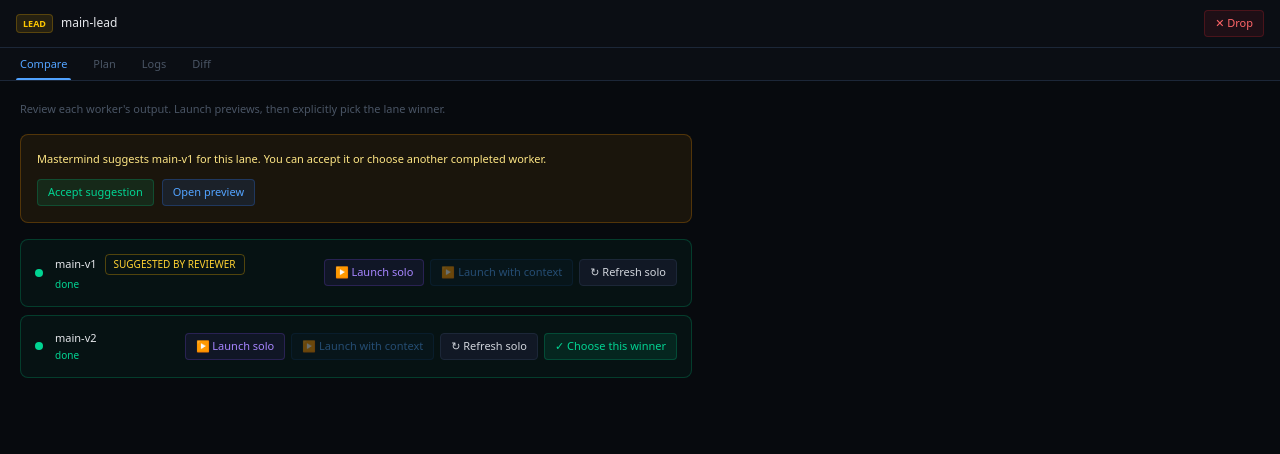
Test: DetailPanel › shows a recoverable API error when winner selection cannot reach the backend
The width and height of the screenshot is (1280, 454).
Click the button "✓ Choose this winner".
click(610, 346)  # box [544,333,677,360]
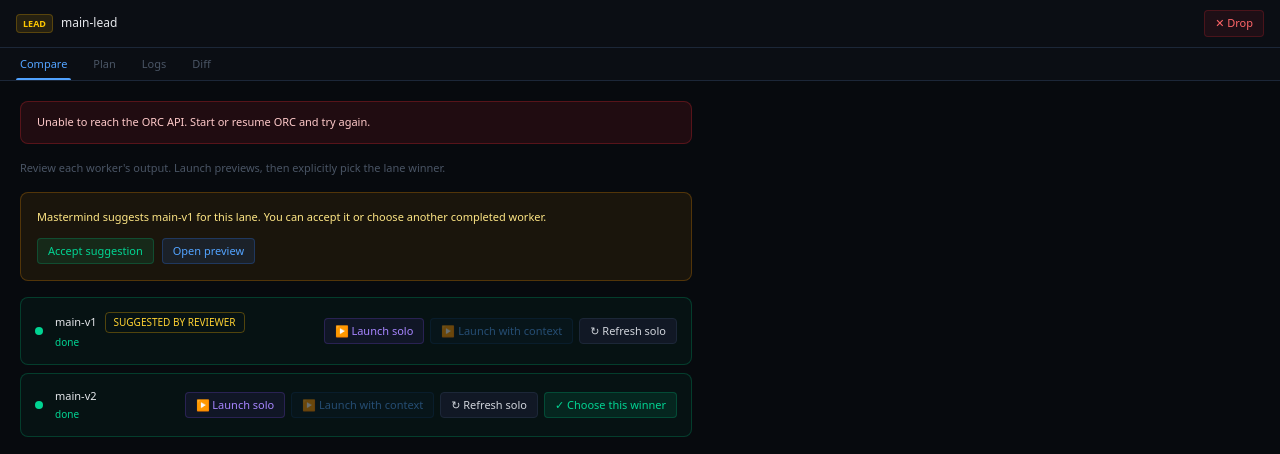
Check: the text "Unable to reach the ORC API. Start or resume ORC and try again." is shown, box [20,101,692,144]
